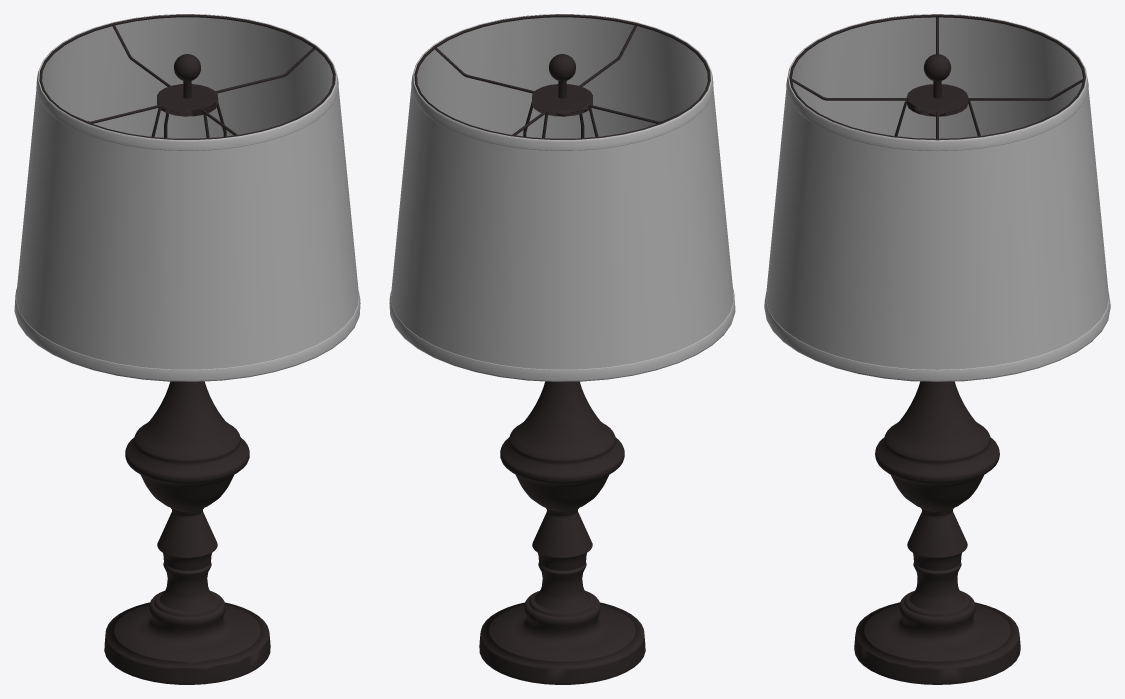
Rendered from B07DBCN4C2.glb.
3 views of the same model, side by side, from view 1: azimuth 30°, elevation 25°; view 2: azimuth 150°, elevation 25°; view 3: azimuth 270°, elevation 25° (orthographic).
Parts seen in each view (by area): view 1: RootNode; view 2: RootNode; view 3: RootNode.
Part boxes in pixels (x1=…): RootNode: x1=14, y1=14, x2=360, y2=684; RootNode: x1=389, y1=14, x2=735, y2=684; RootNode: x1=764, y1=14, x2=1110, y2=684.
Size of the model in its own units: 0.3833 by 0.7262 by 0.3833.
1 material, 1 textured.
